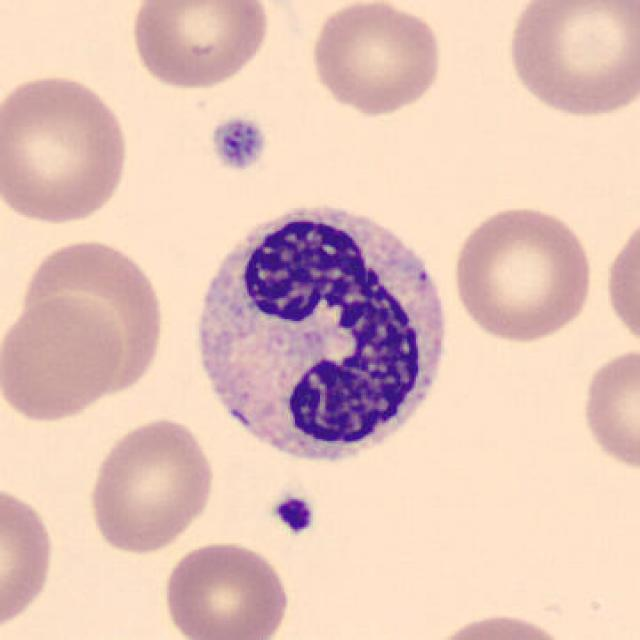Neutrophil: (180, 190, 458, 480)
Platelets: (206, 113, 270, 174), (268, 492, 318, 536)
RBC: (14, 233, 171, 398), (448, 199, 597, 346), (0, 68, 133, 227), (84, 413, 218, 557), (0, 293, 126, 425), (502, 0, 638, 122), (306, 0, 446, 118), (124, 0, 275, 93), (158, 537, 293, 640), (0, 477, 60, 638), (576, 342, 638, 478), (601, 208, 640, 356), (420, 608, 580, 640)
